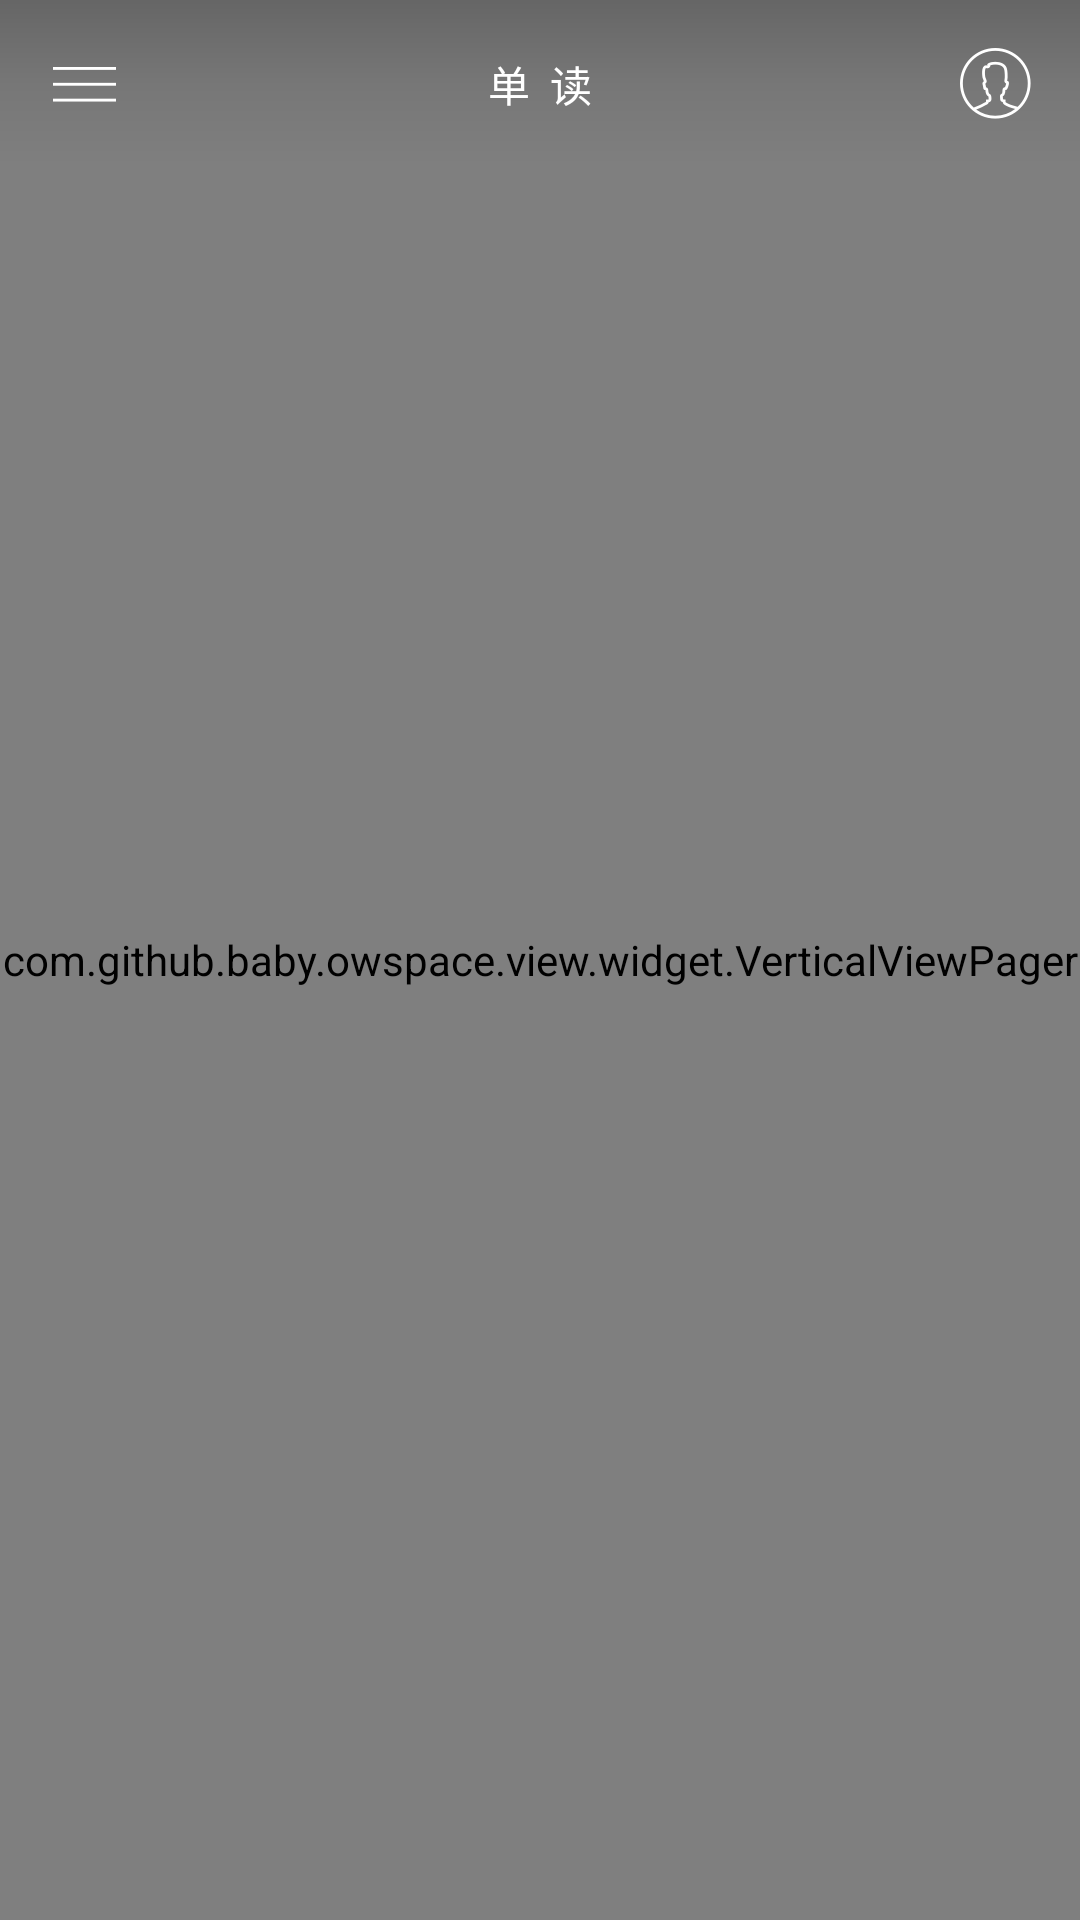

Where icons sit on this 1080w x 1920h app screen, as (left=x1, top=y1, right=x2, bottom=y2):
person: (left=960, top=48, right=1031, bottom=119)
